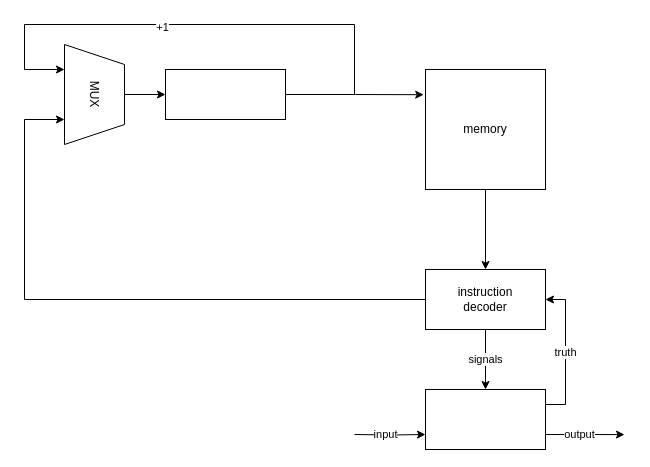
Some shapes in this 650 by 467 pixel diagram are drawn without their labels. The centre of each missing label's shape, as x and y in pixels:
"DataPath" belongs at pixel 485 419.
"instruction pointer" belongs at pixel 225 94.
